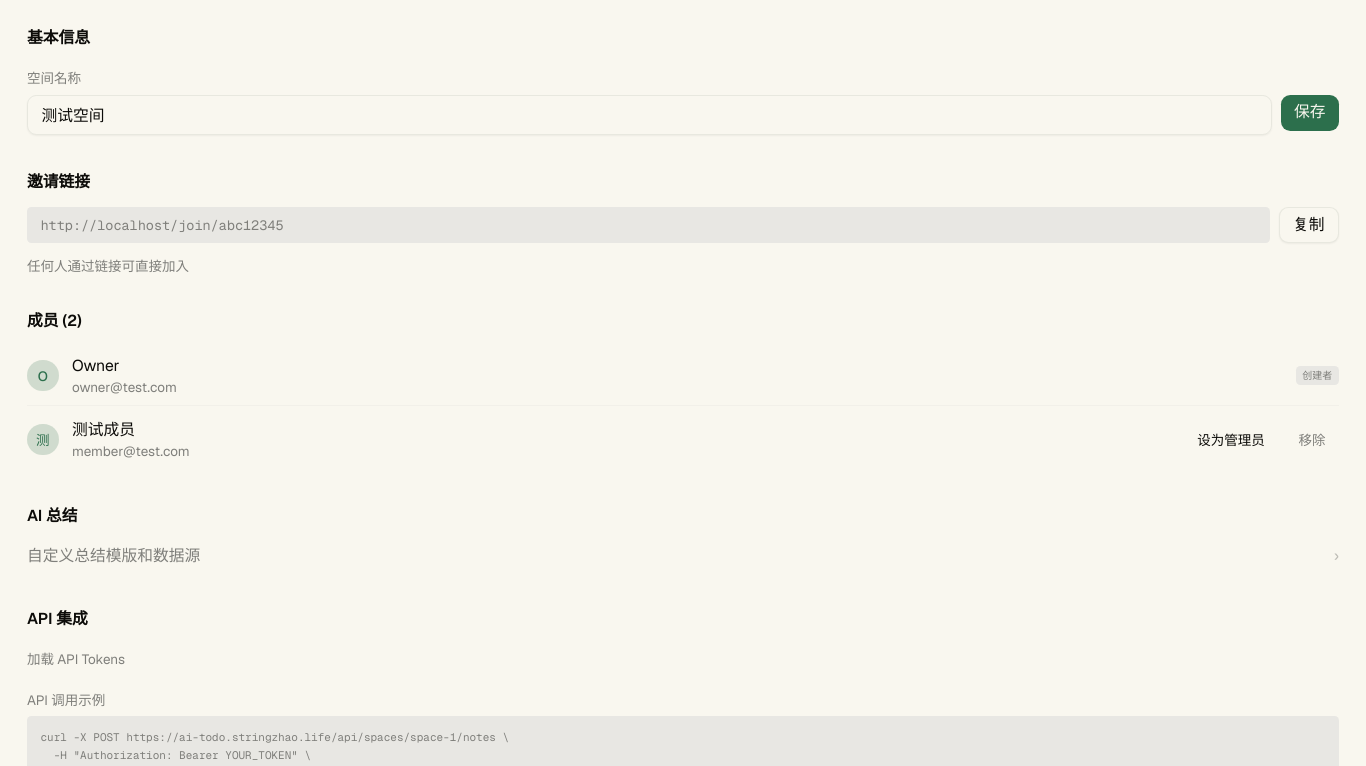
Test: SpaceSettings 移除成员确认 › 点击「移除」成员应弹出确认对话框
The image size is (1366, 766).
Click the button "移除" at x=1312, y=440, box [1285, 424, 1339, 456]
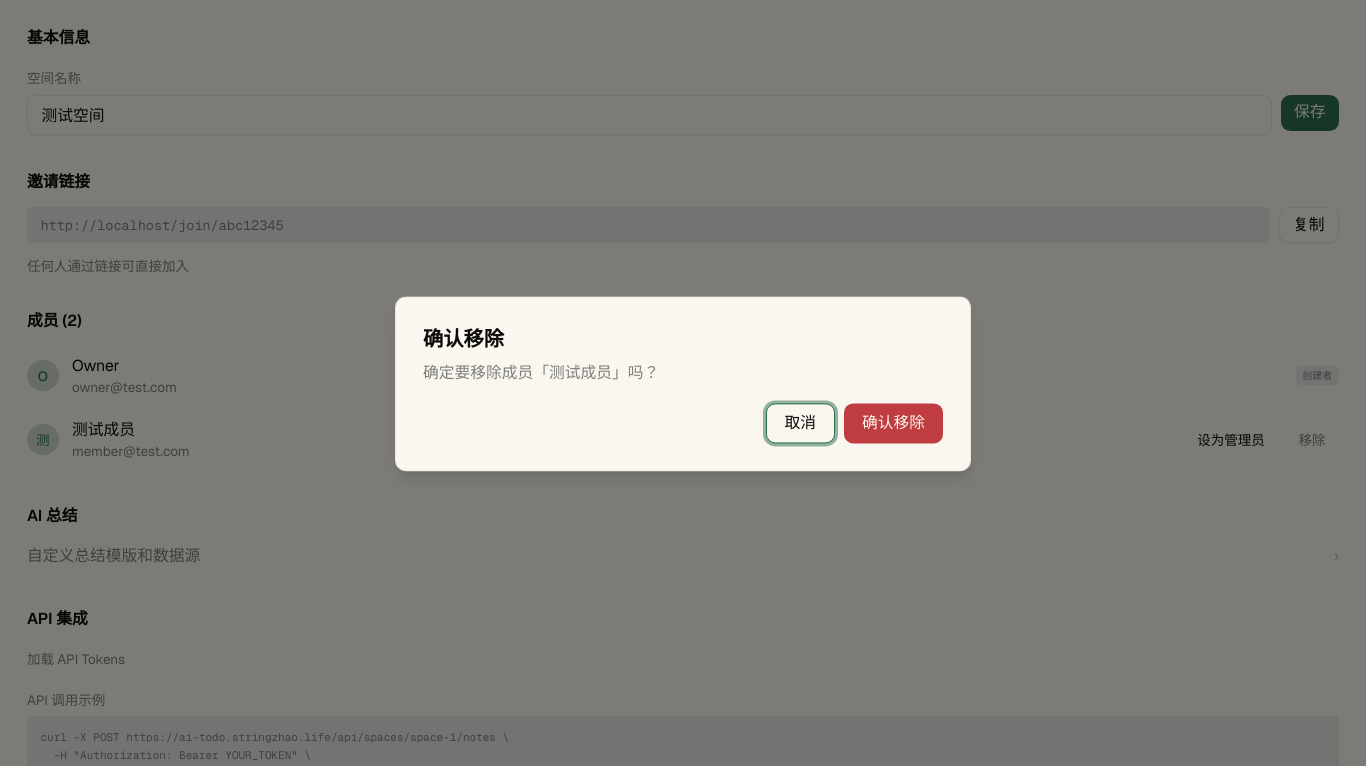
Expected: the dialog is shown, [395, 296, 971, 472]
